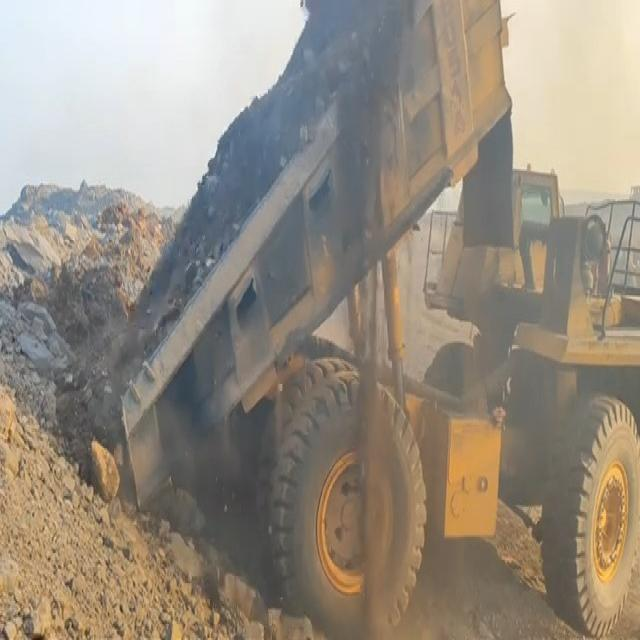dump_truck: (122, 6, 640, 640)
